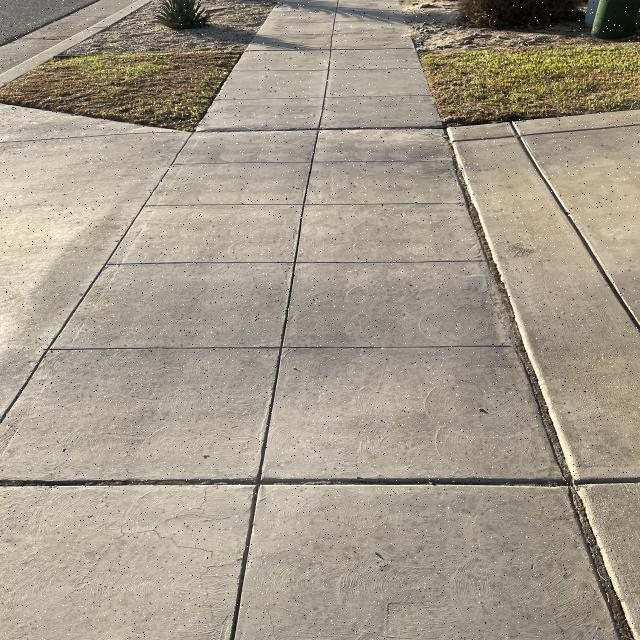curb: (14, 35, 82, 70), (74, 10, 145, 36)
walkway: (14, 404, 558, 636), (91, 286, 497, 424), (159, 185, 465, 298), (199, 123, 447, 205), (231, 72, 428, 144), (272, 15, 408, 69)
